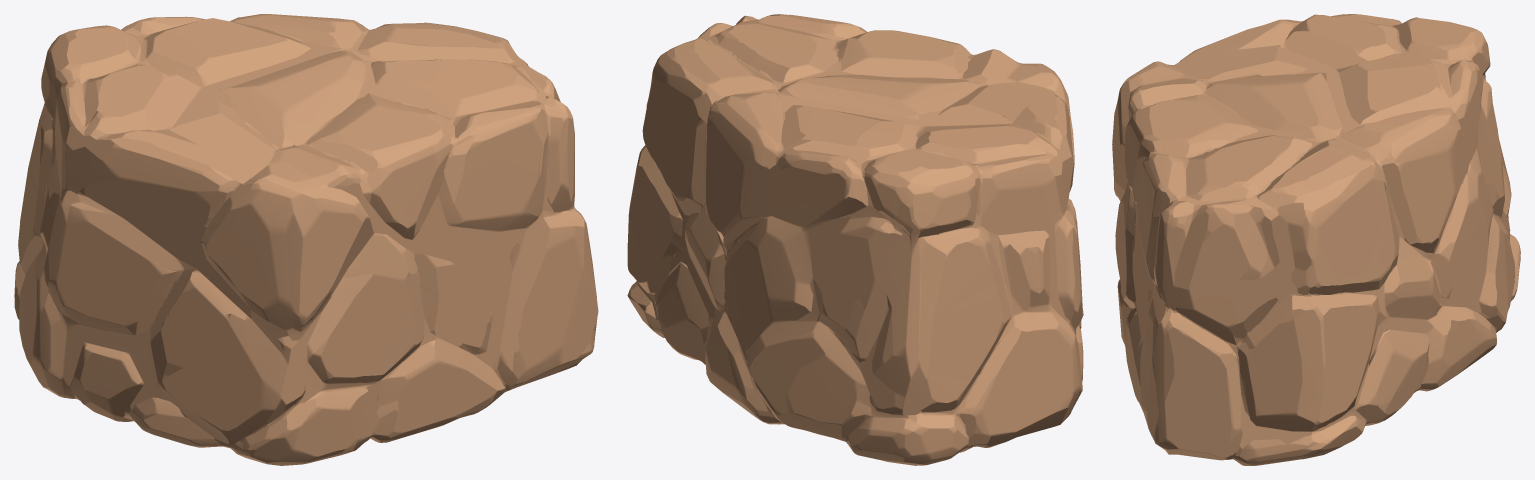
3 renders of one model, left to right at view 1: azimuth 30°, elevation 25°; view 2: azimuth 150°, elevation 25°; view 3: azimuth 270°, elevation 25°, orthographic. The views are drawn at different scales.
Parts seen in each view (by area): view 1: Mesh_77_LOD0; view 2: Mesh_77_LOD0; view 3: Mesh_77_LOD0.
Boxes of the visible parts, x1=… form: Mesh_77_LOD0: x1=14, y1=14, x2=598, y2=465; Mesh_77_LOD0: x1=627, y1=14, x2=1083, y2=465; Mesh_77_LOD0: x1=1112, y1=14, x2=1520, y2=465.
Size of what is drawn, in the model's own units: 3707 by 2322 by 2974.
